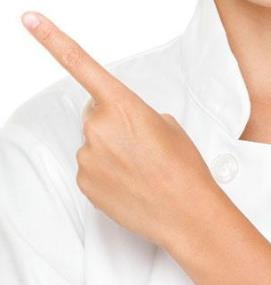up: (20, 10, 208, 249)
